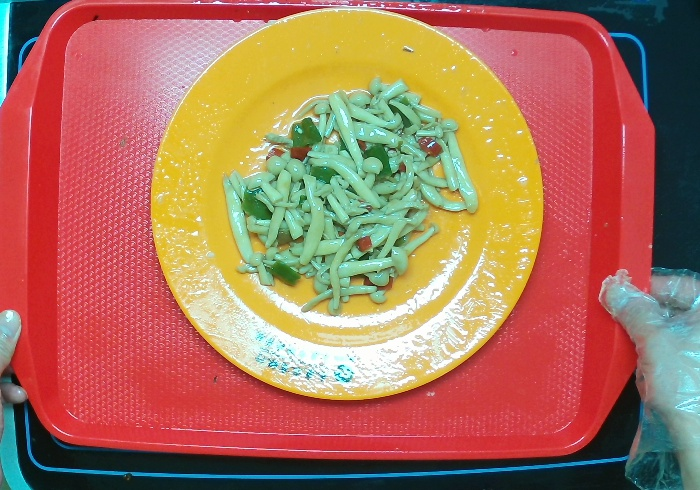YKMZ-Ju_Se_Mian_Pan: (140, 1, 547, 413)
